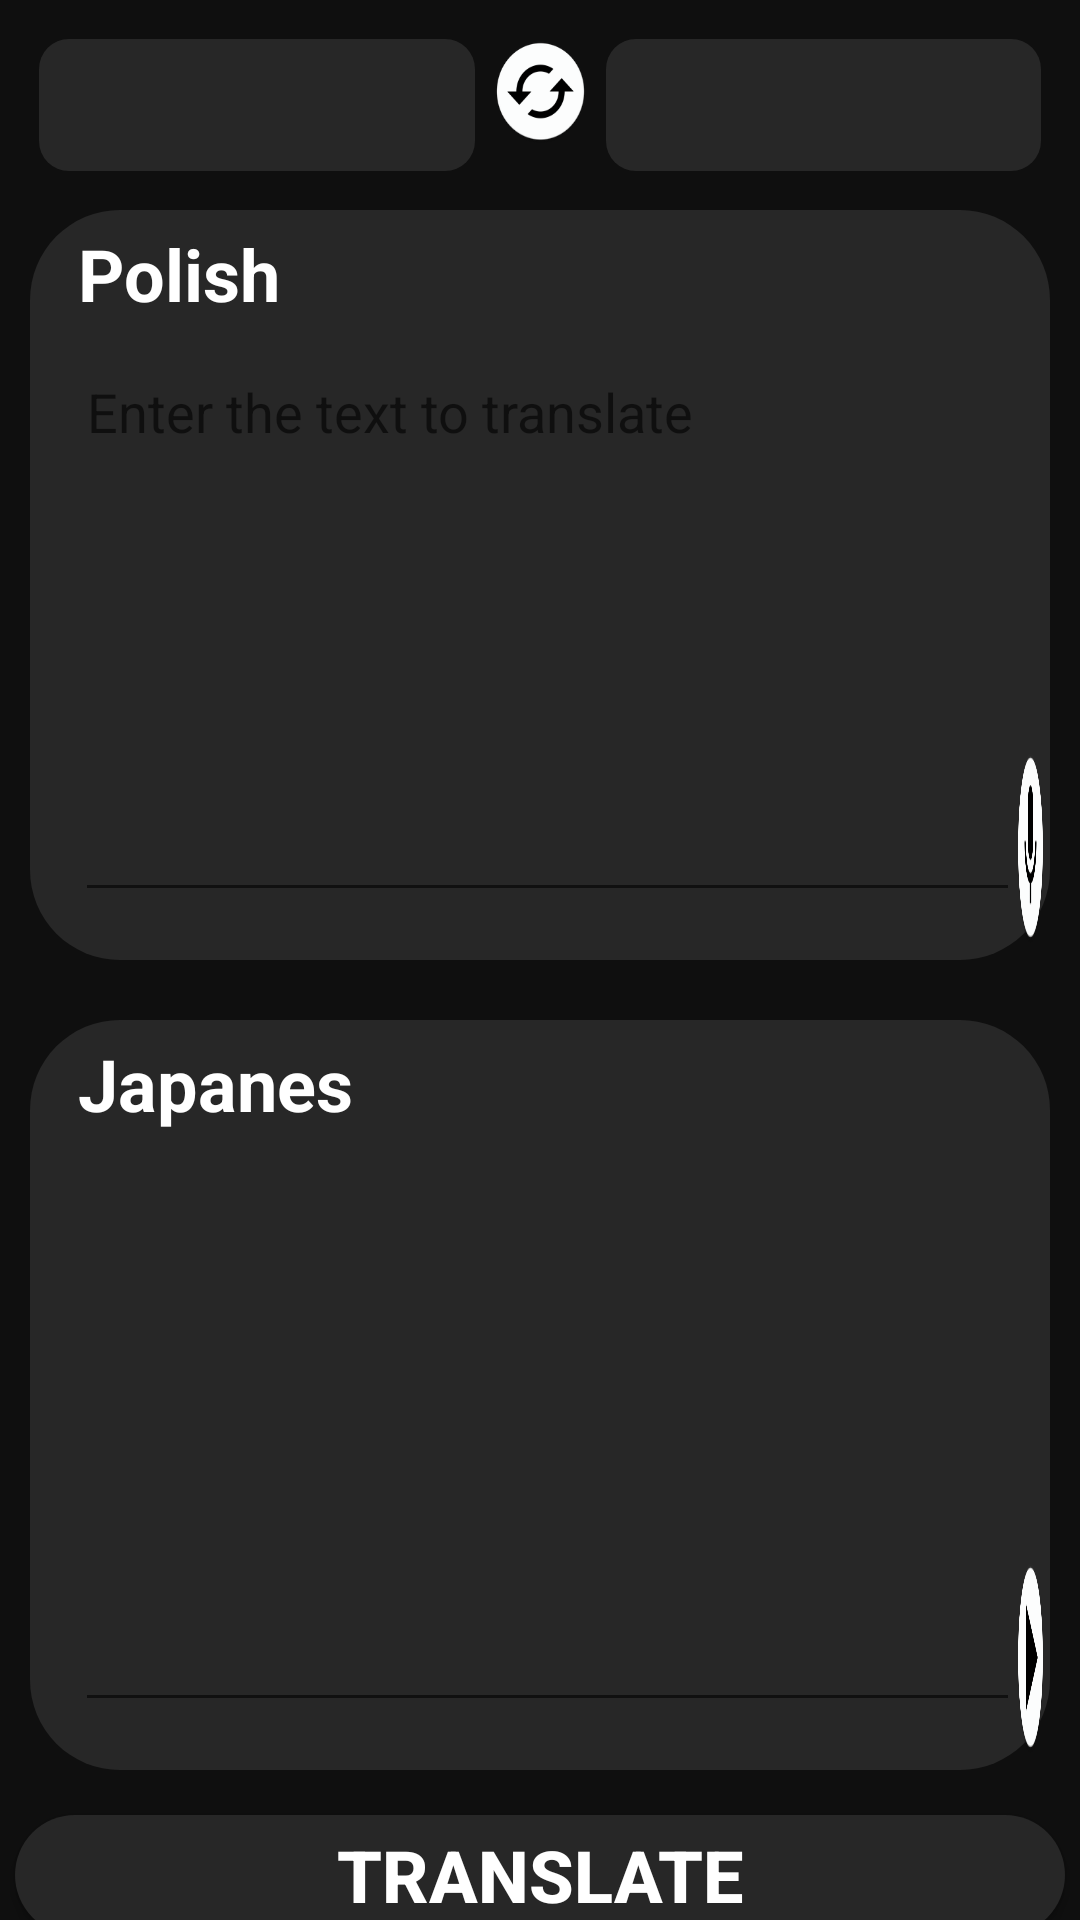

Screen size 1080x1920. Icon name, then its box in pixels as Rect(x1, y1, x2, y2):
swap: Rect(497, 43, 584, 140)
